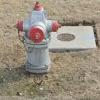a fire hydrant: (16, 3, 57, 77)
